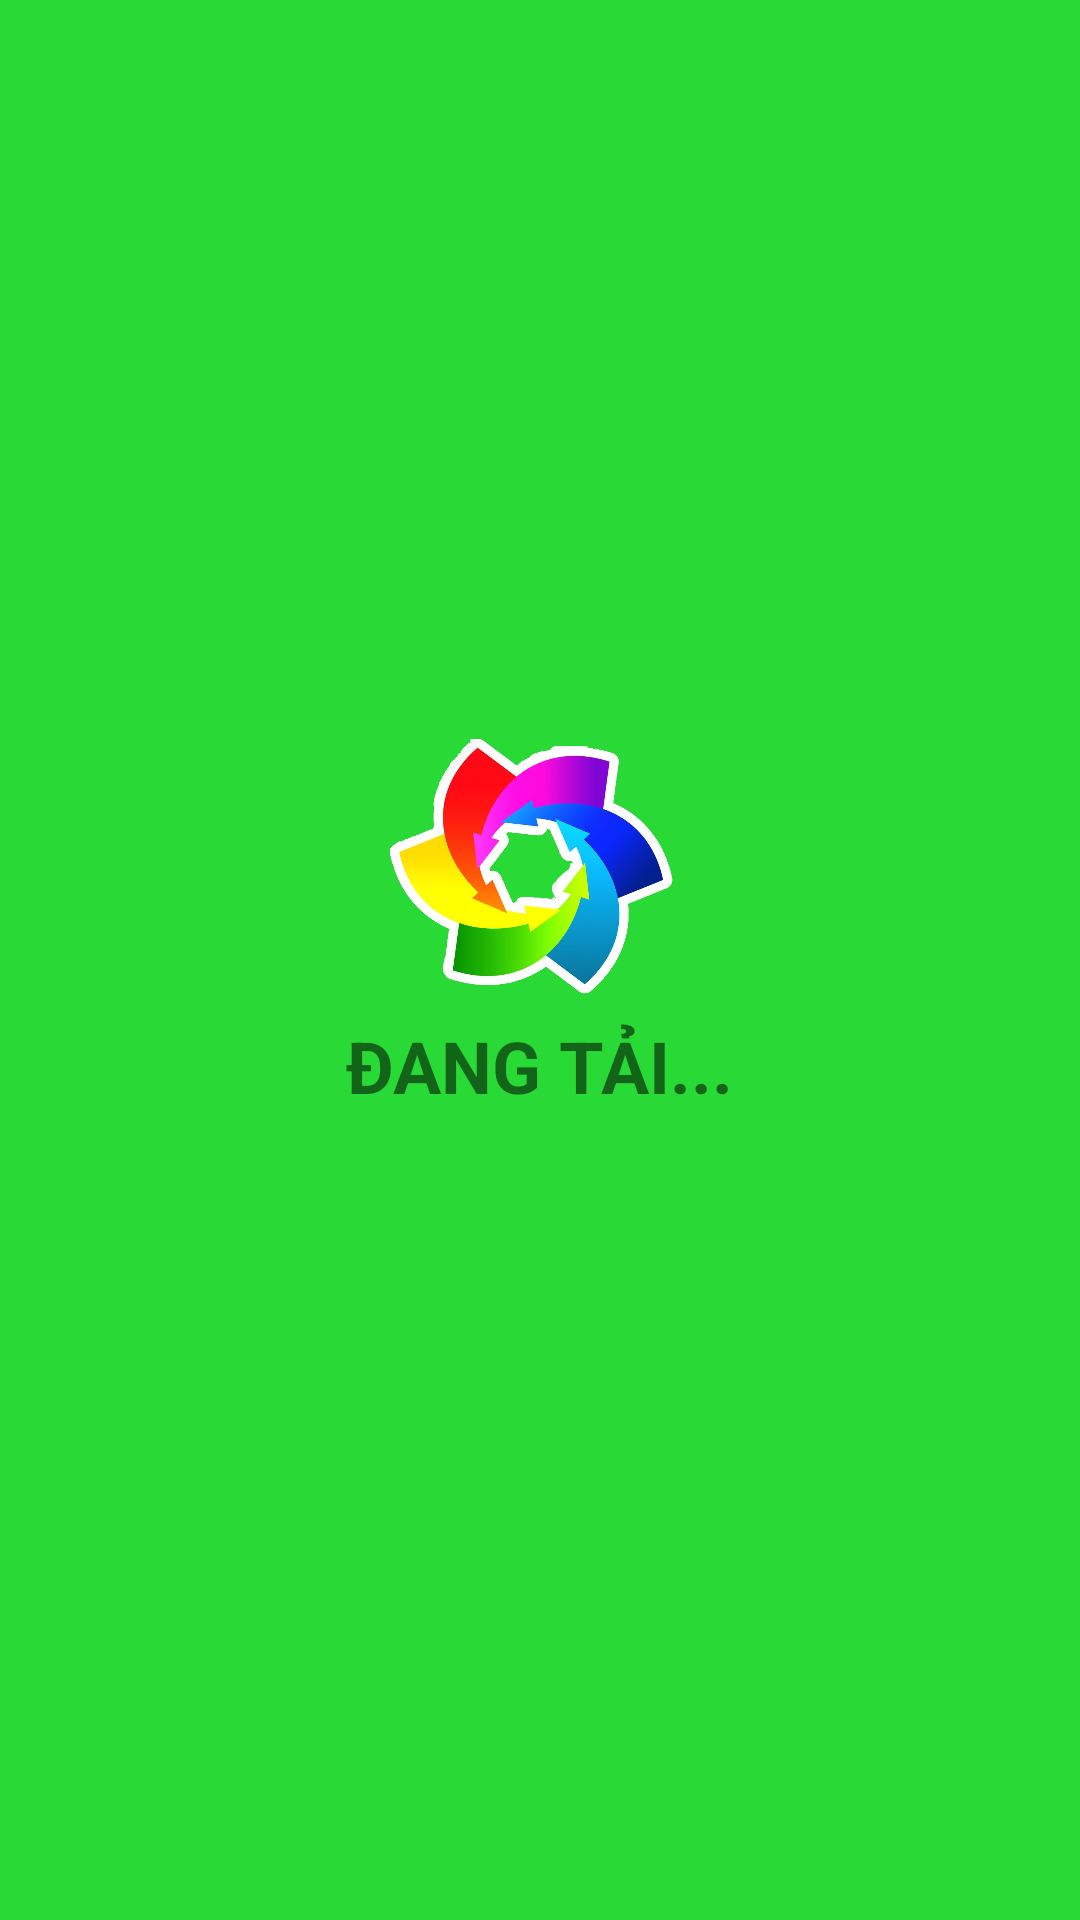

Where icons sit on this 1080 × 1920 app screen, as [x1, y1, x2, y2]:
rotate: [390, 739, 673, 994]
